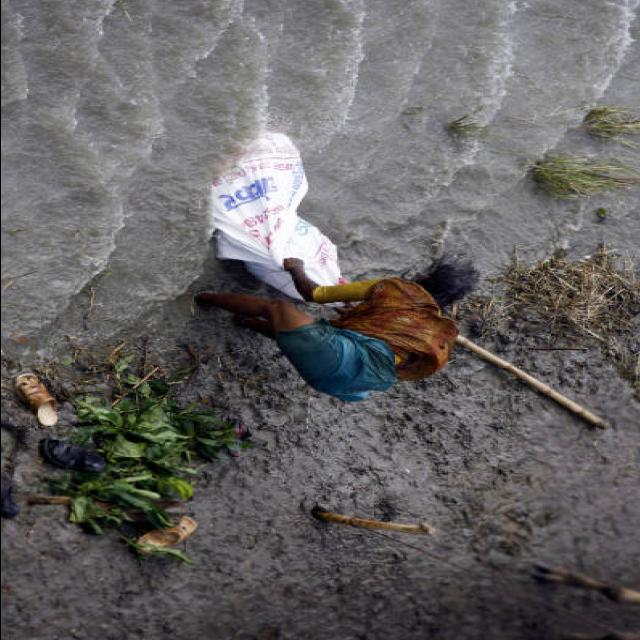civilian: (195, 258, 478, 400)
